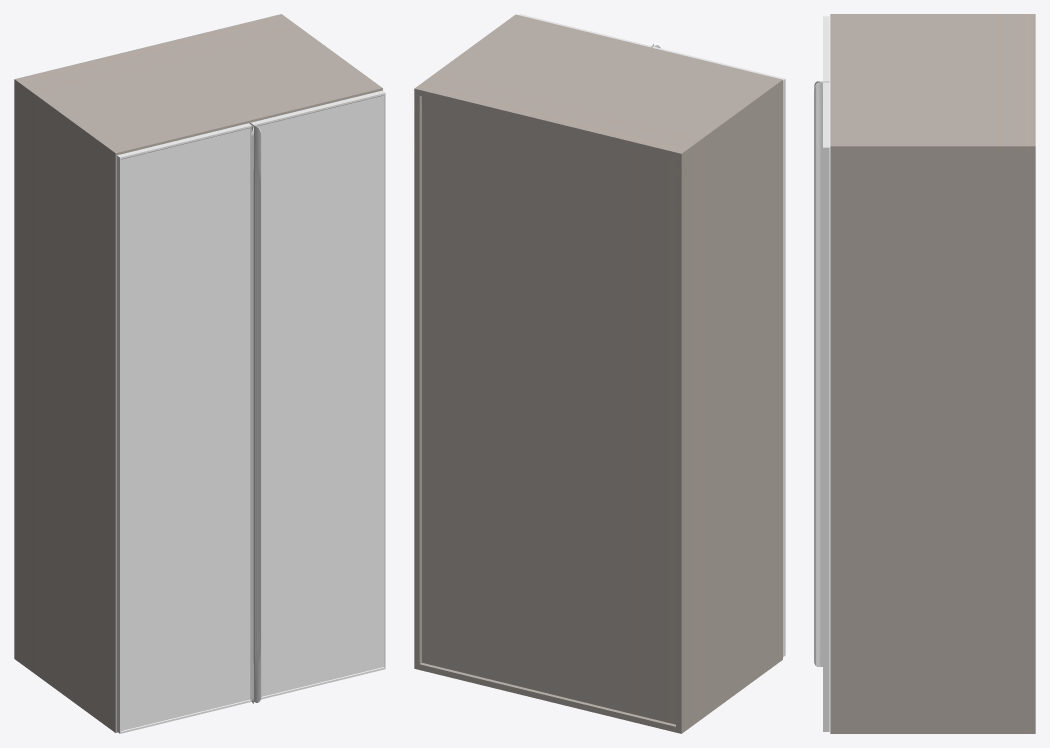
3 views of the same model, side by side, from view 1: azimuth 30°, elevation 25°; view 2: azimuth 150°, elevation 25°; view 3: azimuth 270°, elevation 25° (orthographic).
Visible parts, largest first — view 1: Object_73.002, Object_1.002, Object_4.002; view 2: Object_73.002, Object_1.002; view 3: Object_73.002, Object_4.002, Object_1.002.
Part boxes in pixels (left/top/right/bottom): Object_73.002: left=14, top=14, right=382, bottom=732; Object_1.002: left=117, top=123, right=253, bottom=733; Object_4.002: left=250, top=90, right=385, bottom=702; Object_73.002: left=414, top=14, right=782, bottom=733; Object_1.002: left=652, top=45, right=785, bottom=656; Object_73.002: left=830, top=14, right=1035, bottom=733; Object_4.002: left=814, top=82, right=829, bottom=731; Object_1.002: left=814, top=16, right=829, bottom=87.
Size of the model in its own units: 0.868 by 1.8 by 0.6149.
Materials: 3 (1 with a texture image).
